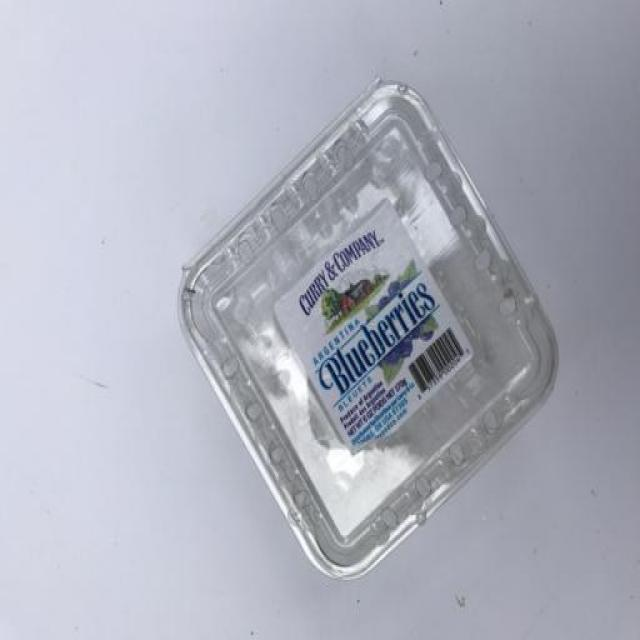plastic_bag: (165, 55, 579, 587)
